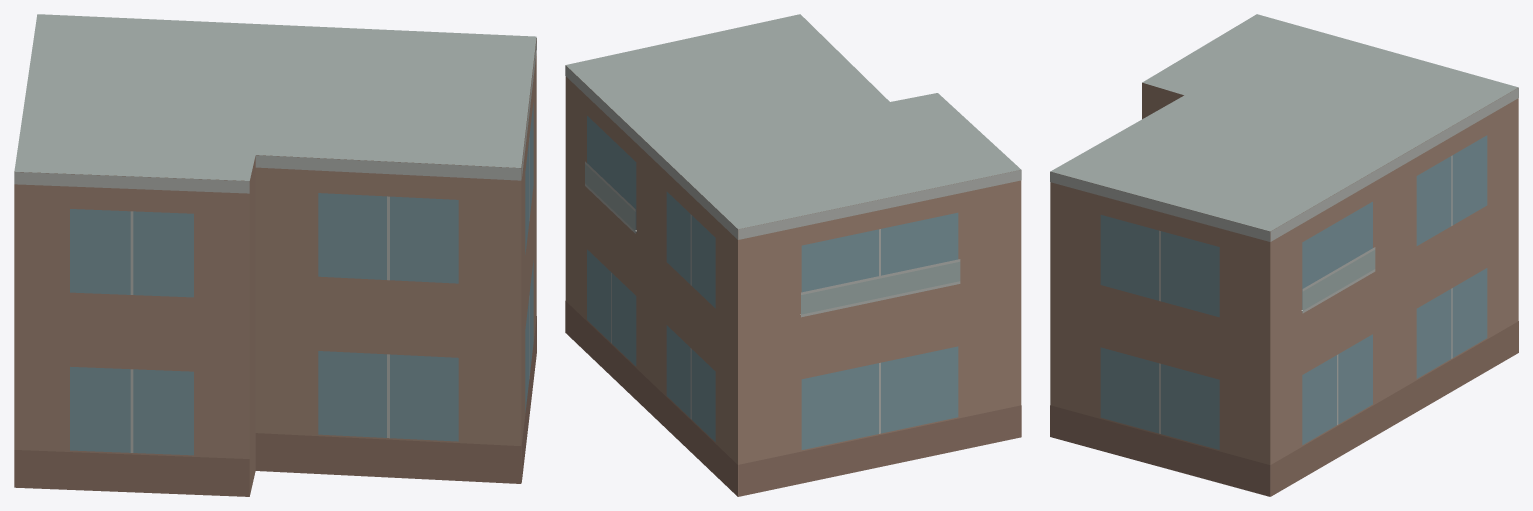
Rendered from survey-upis-32564174.glb.
The picture shows the model from 3 angles, left to right: view 1: azimuth 30°, elevation 25°; view 2: azimuth 150°, elevation 25°; view 3: azimuth 270°, elevation 25°; orthographic projection. The views are drawn at different scales.
Parts seen in each view (by area): view 1: survey-upis-32564174.tmp; view 2: survey-upis-32564174.tmp; view 3: survey-upis-32564174.tmp.
Part boxes in pixels (left/top/right/bottom): survey-upis-32564174.tmp: left=14, top=14, right=536, bottom=496; survey-upis-32564174.tmp: left=565, top=14, right=1021, bottom=496; survey-upis-32564174.tmp: left=1050, top=14, right=1518, bottom=496.
Bounding box in the file's own units: 10.73 × 6.1 × 9.77.
